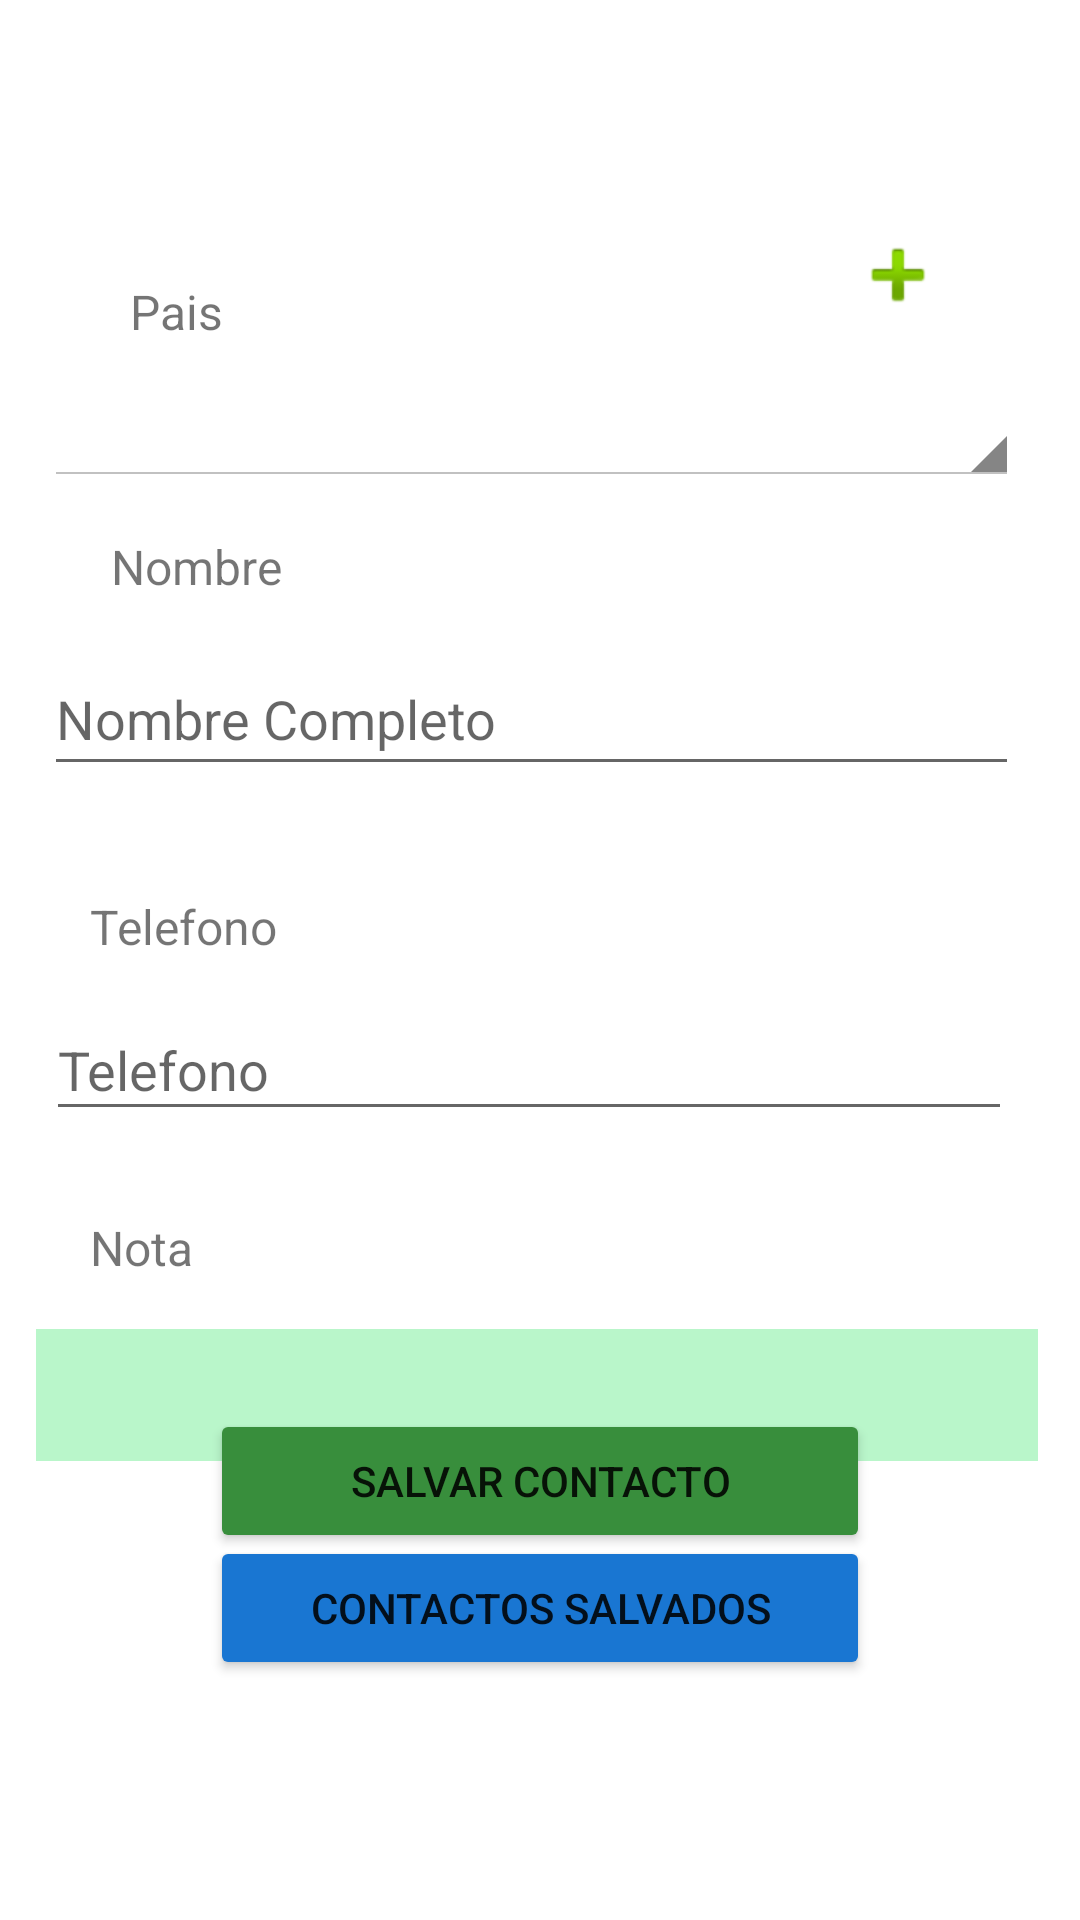

Icon click points for this 1080w x 1920h phone screenshot, format [x,y]:
add: [898,275]
